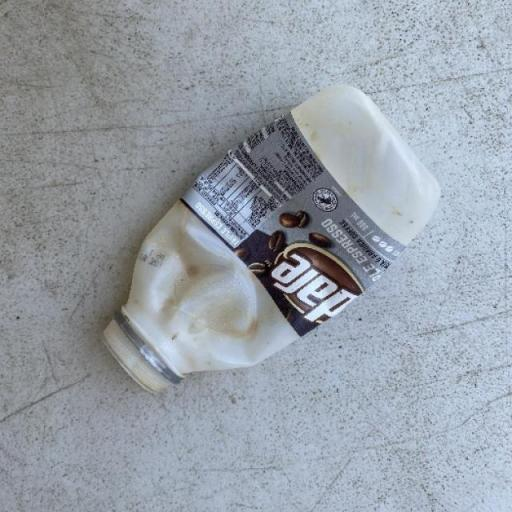plastic: (99, 82, 441, 394)
